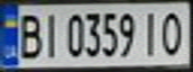0: (63, 9, 84, 58)
3: (81, 9, 103, 58)
5: (100, 8, 121, 57)
9: (115, 8, 139, 59)
B: (12, 10, 45, 60)
I: (36, 9, 60, 58), (139, 8, 163, 57)
O: (157, 7, 190, 57)
